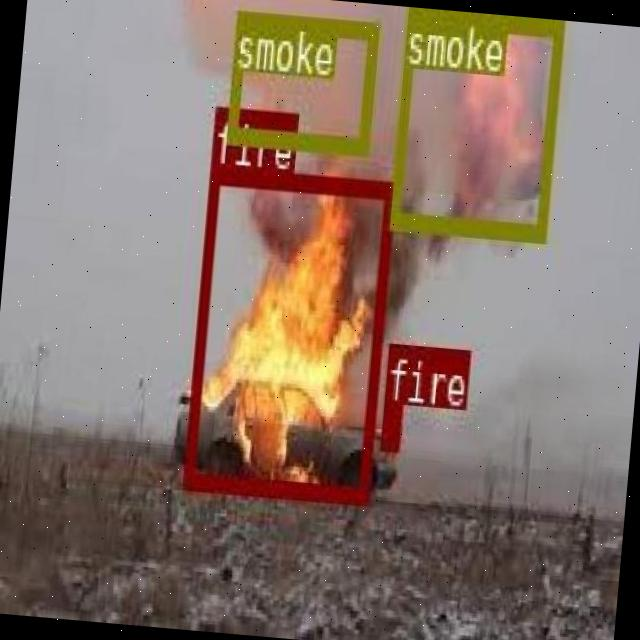fire: (182, 164, 394, 502), (378, 399, 400, 446)
smoke: (387, 6, 563, 236), (225, 7, 378, 152)
